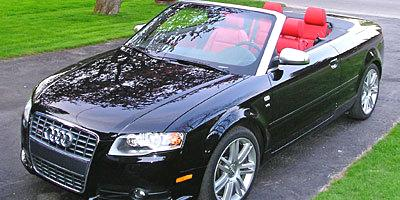Audi: (41, 121, 78, 152)
